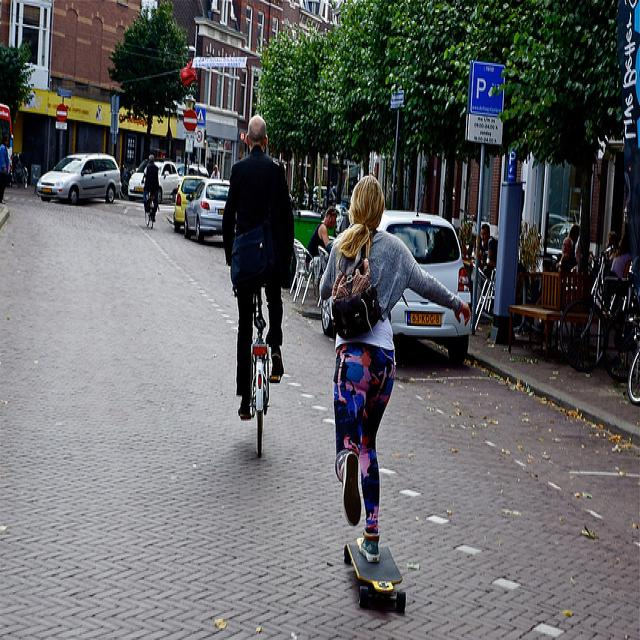Vehicle: (320, 195, 471, 364), (36, 152, 122, 206), (184, 180, 230, 243), (128, 158, 181, 203), (173, 176, 208, 233), (2, 100, 11, 200)
